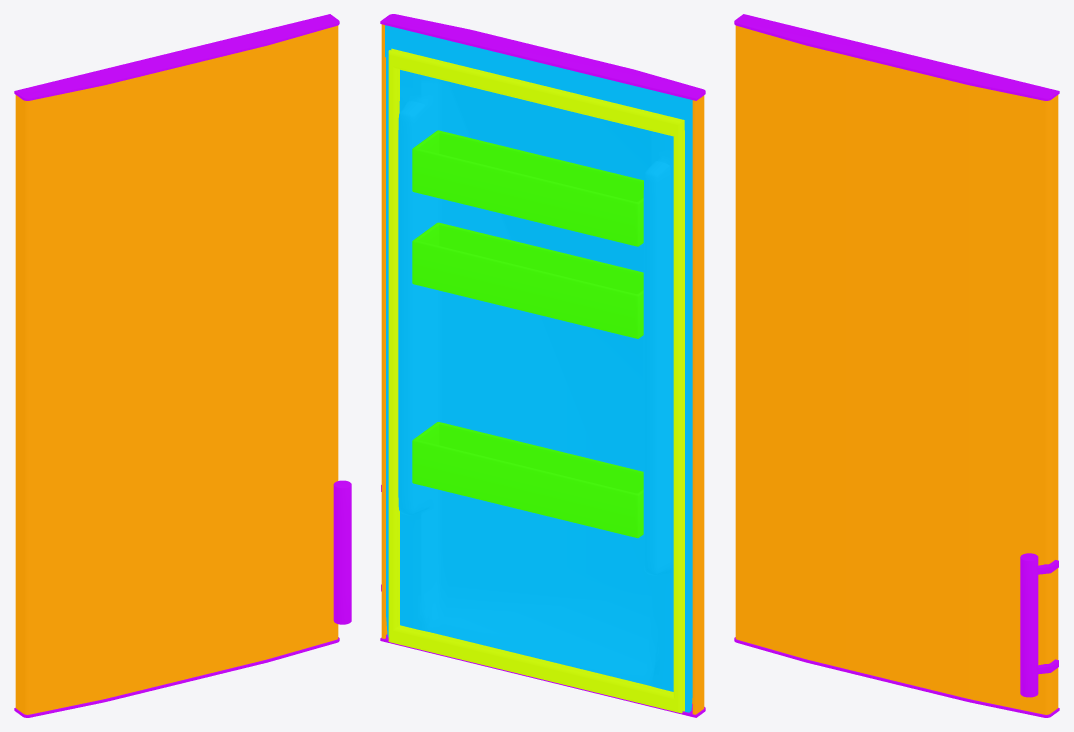
The model's file is FridgeDoorTest.fbx.
3 renders of one model, left to right at view 1: azimuth 30°, elevation 25°; view 2: azimuth 150°, elevation 25°; view 3: azimuth 330°, elevation 25°, orthographic.
Visible parts, largest first — view 1: DoorInsideBack; view 2: DoorInsideBack; view 3: DoorInsideBack.
Part boxes in pixels (box(x1,y1,x2,y2)): DoorInsideBack: box(14, 14, 351, 717); DoorInsideBack: box(380, 14, 705, 717); DoorInsideBack: box(734, 14, 1059, 717).
Bounding box in the file's own units: 60.89 × 113 × 13.32.
